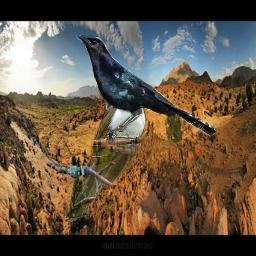Crow: (76, 35, 216, 144)
Cuckoo: (68, 85, 152, 221)
